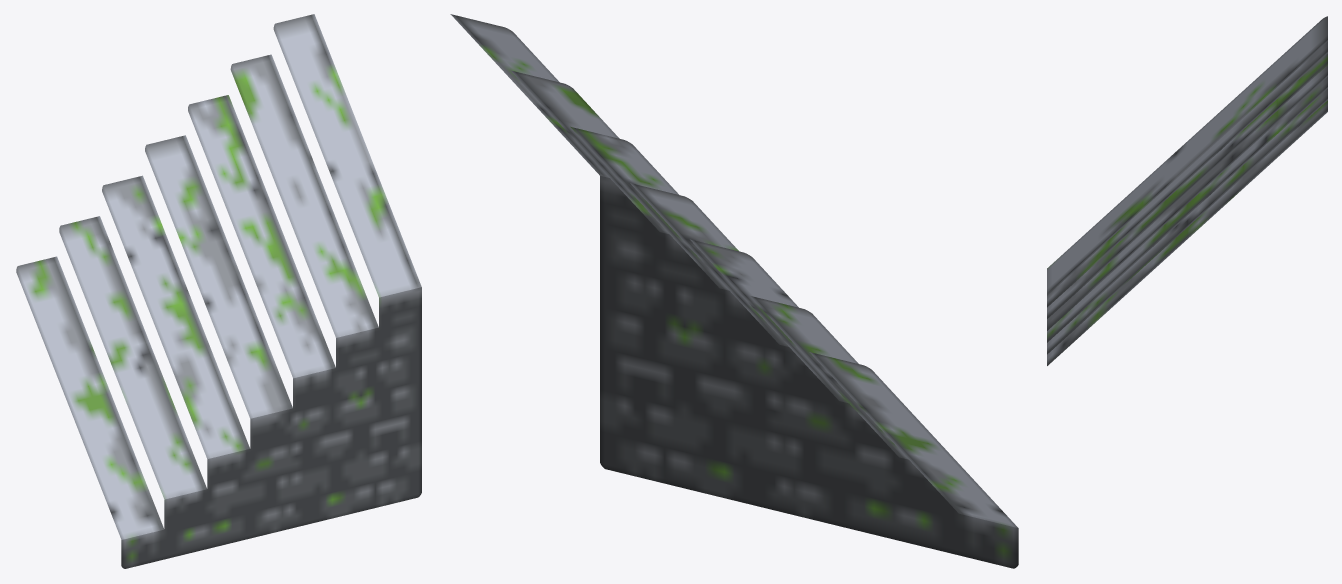
Rendered from SideStairsRight.fbx.
3 views of the same model, side by side, from view 1: azimuth 30°, elevation 25°; view 2: azimuth 150°, elevation 25°; view 3: azimuth 270°, elevation 25° (orthographic). The views are drawn at different scales.
Visible parts, largest first — view 1: Plane; view 2: Plane; view 3: Plane.
Boxes of the visible parts, <box> form: Plane: <box>16,14,421,568</box>; Plane: <box>450,14,1018,568</box>; Plane: <box>1047,16,1327,365</box>.
Size of the model in its own units: 42 by 54 by 26.
